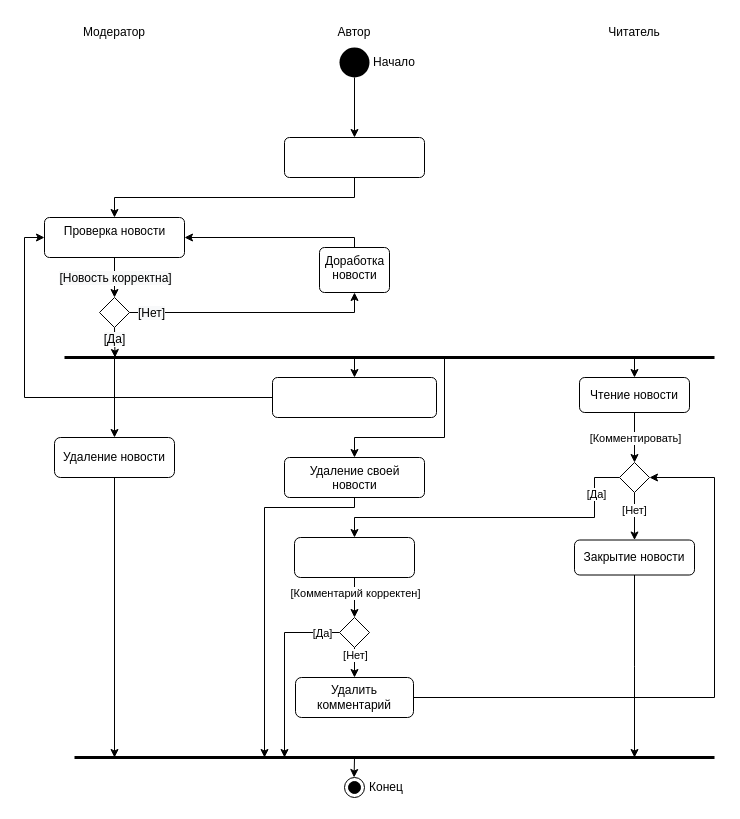
This 740x819 diagram has some shape labels left out. Each missing label, with the box of its shape:
Просмотр комментария: (294, 536, 414, 578)
Редактирование своей новости: (272, 376, 436, 418)
Создание новости: (284, 136, 424, 178)
